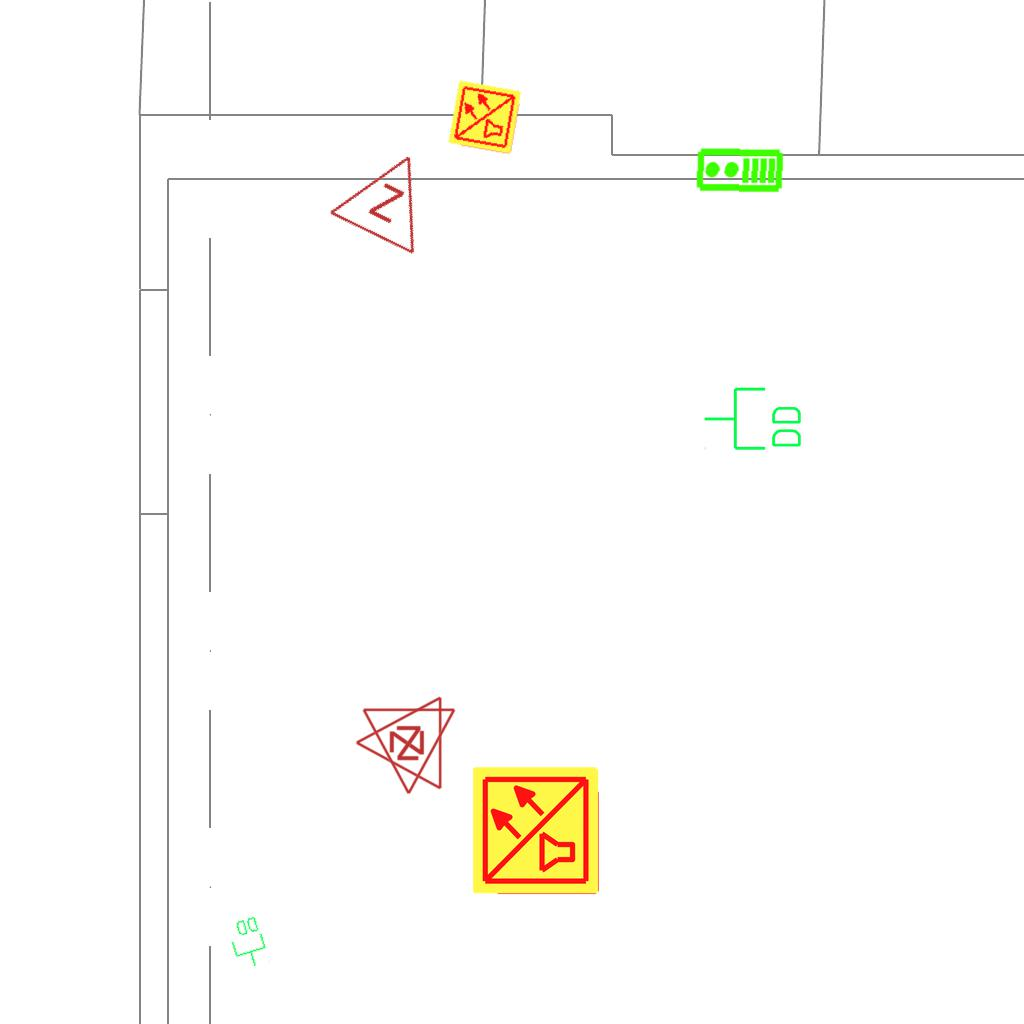Datenanschluss_zweifach: (702, 385, 805, 454), (224, 913, 273, 973)
Gegensprechanlage_mit_Video: (695, 146, 784, 196)
OKW_Multisensormelder_(Kombination_optischer_Rauch-Kahlenmonoxid_Waerme-Melder): (470, 764, 602, 896), (446, 78, 524, 156)
Zimmersignalleuchte: (323, 128, 455, 262), (349, 695, 449, 793), (361, 701, 459, 801)
